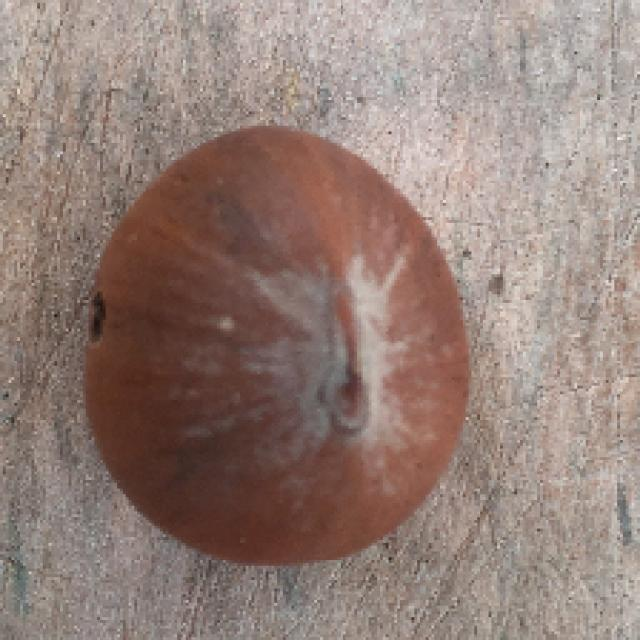damagedHazelnut: (75, 117, 470, 578)
